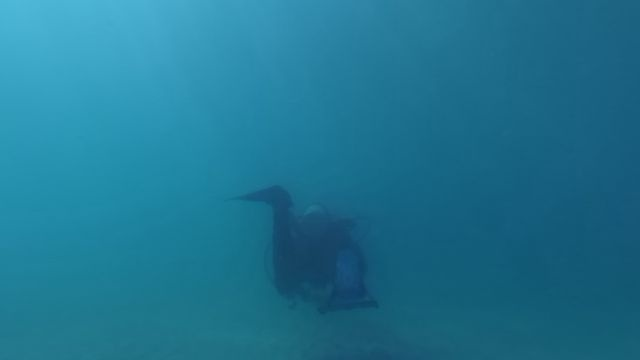Diver: (228, 175, 386, 318)
